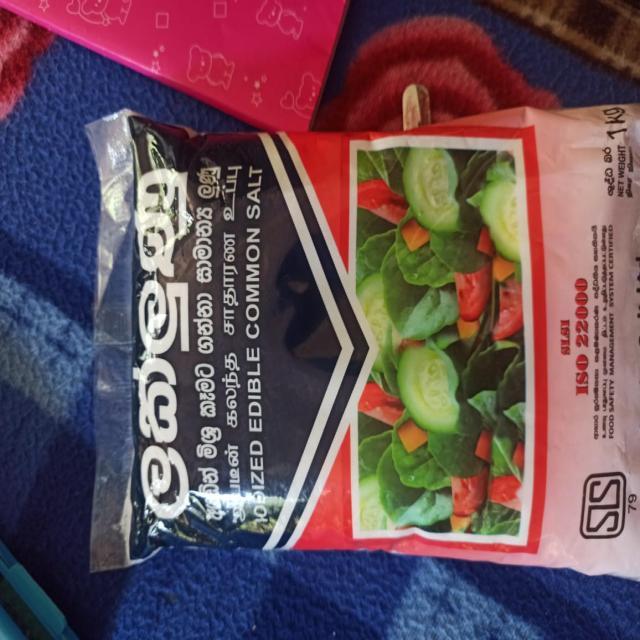Lak Lunu: (90, 60, 640, 580)
